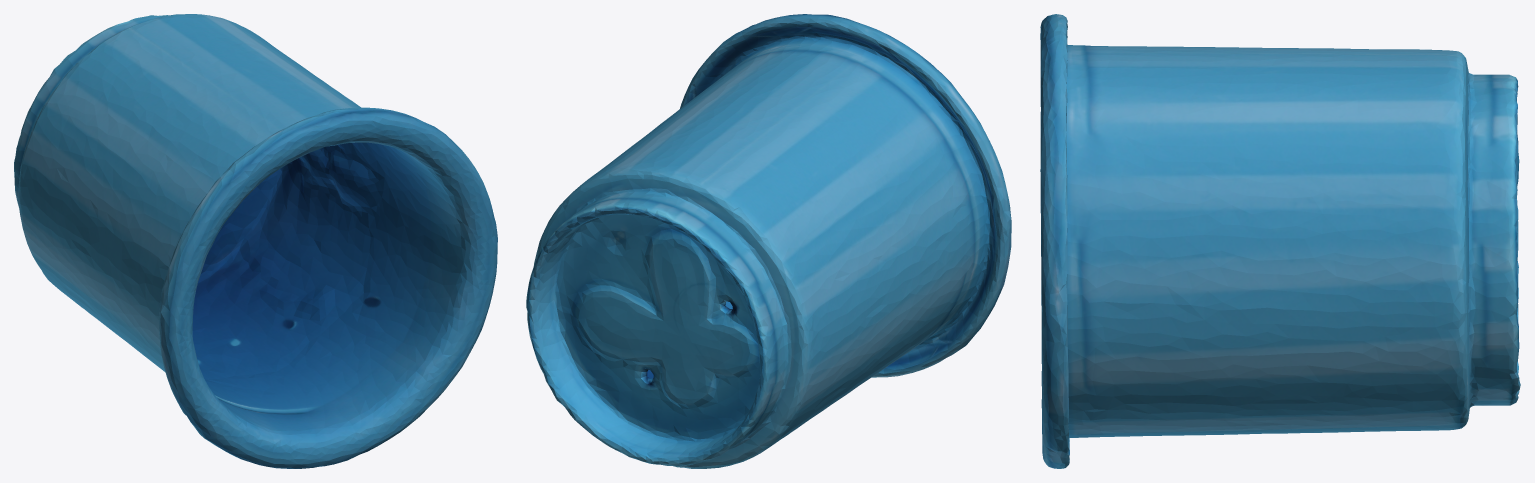
3 views of the same model, side by side, from view 1: azimuth 30°, elevation 25°; view 2: azimuth 150°, elevation 25°; view 3: azimuth 270°, elevation 25° (orthographic). The views are drawn at different scales.
Visible parts, largest first — view 1: node; view 2: node; view 3: node.
Boxes of the visible parts, bbox=[...] form: node: bbox=[14, 14, 497, 468]; node: bbox=[526, 14, 1011, 468]; node: bbox=[1040, 14, 1520, 468].
Size of the model in its own units: 0.061 by 0.0609 by 0.064.
1 material, 1 textured.
